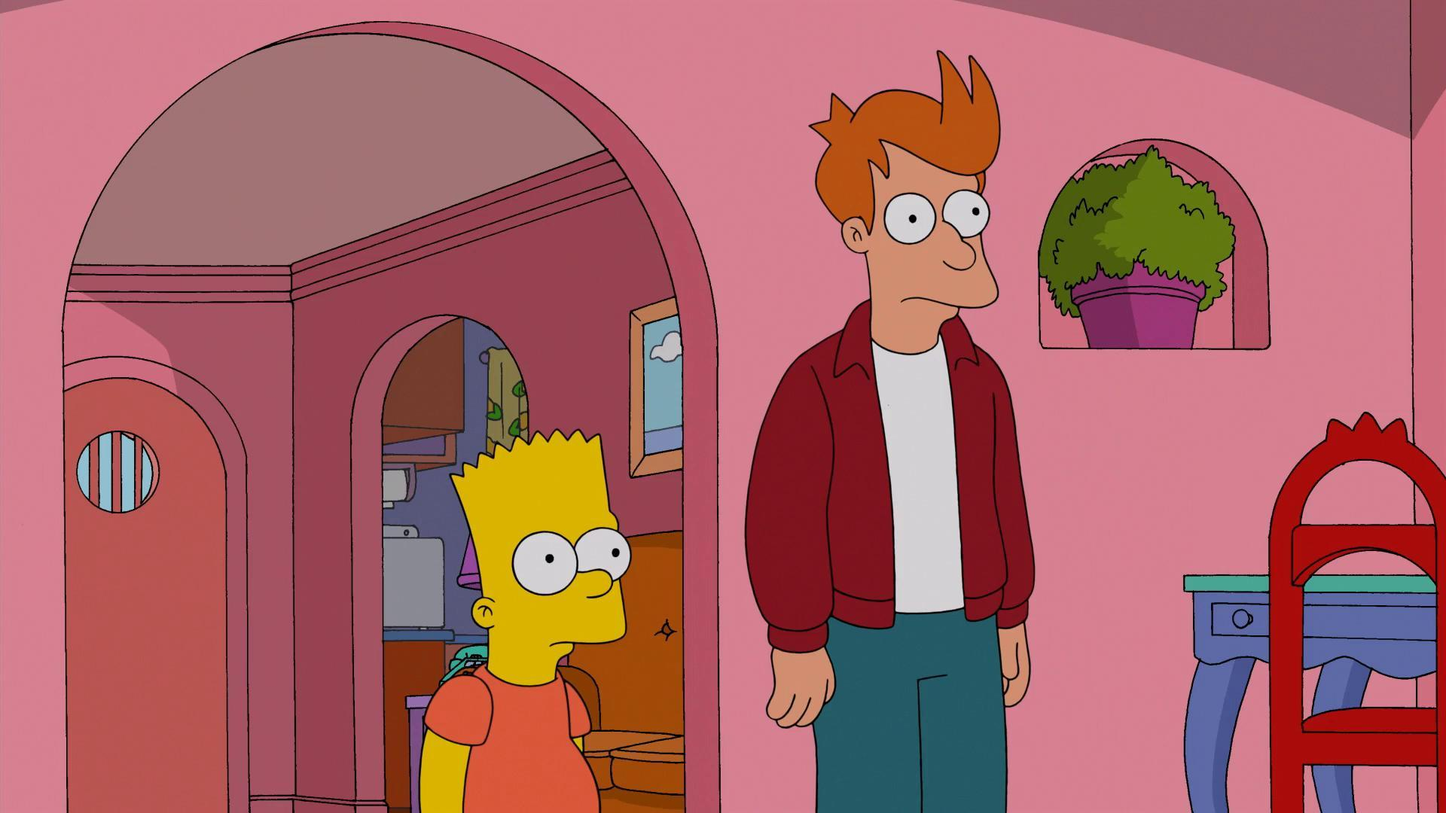Bart: (402, 407, 692, 813)
